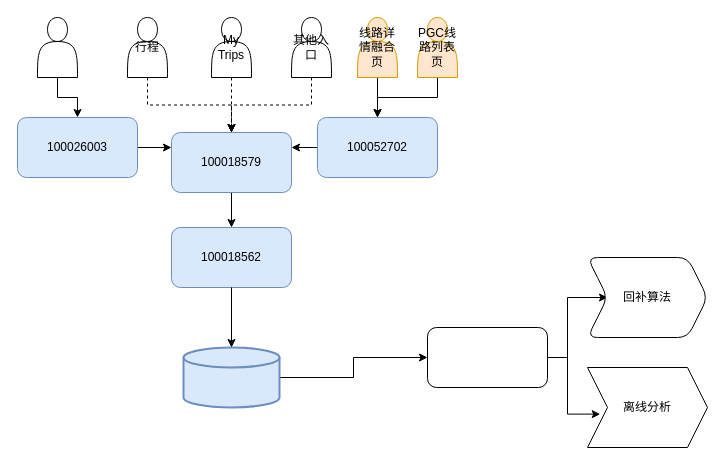
Some shapes in this 725 by 465 pixel diagram are drawn without their labels. Each missing label, with the centre of its shape:
"gstripscheduledb" belongs at (x=231, y=377).
"hive" belongs at (x=487, y=357).
"地图" belongs at (x=57, y=47).
